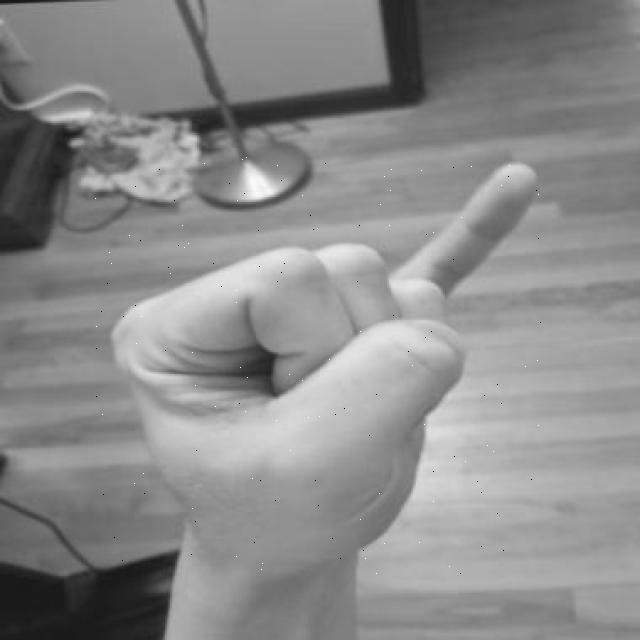I: (95, 156, 562, 580)
